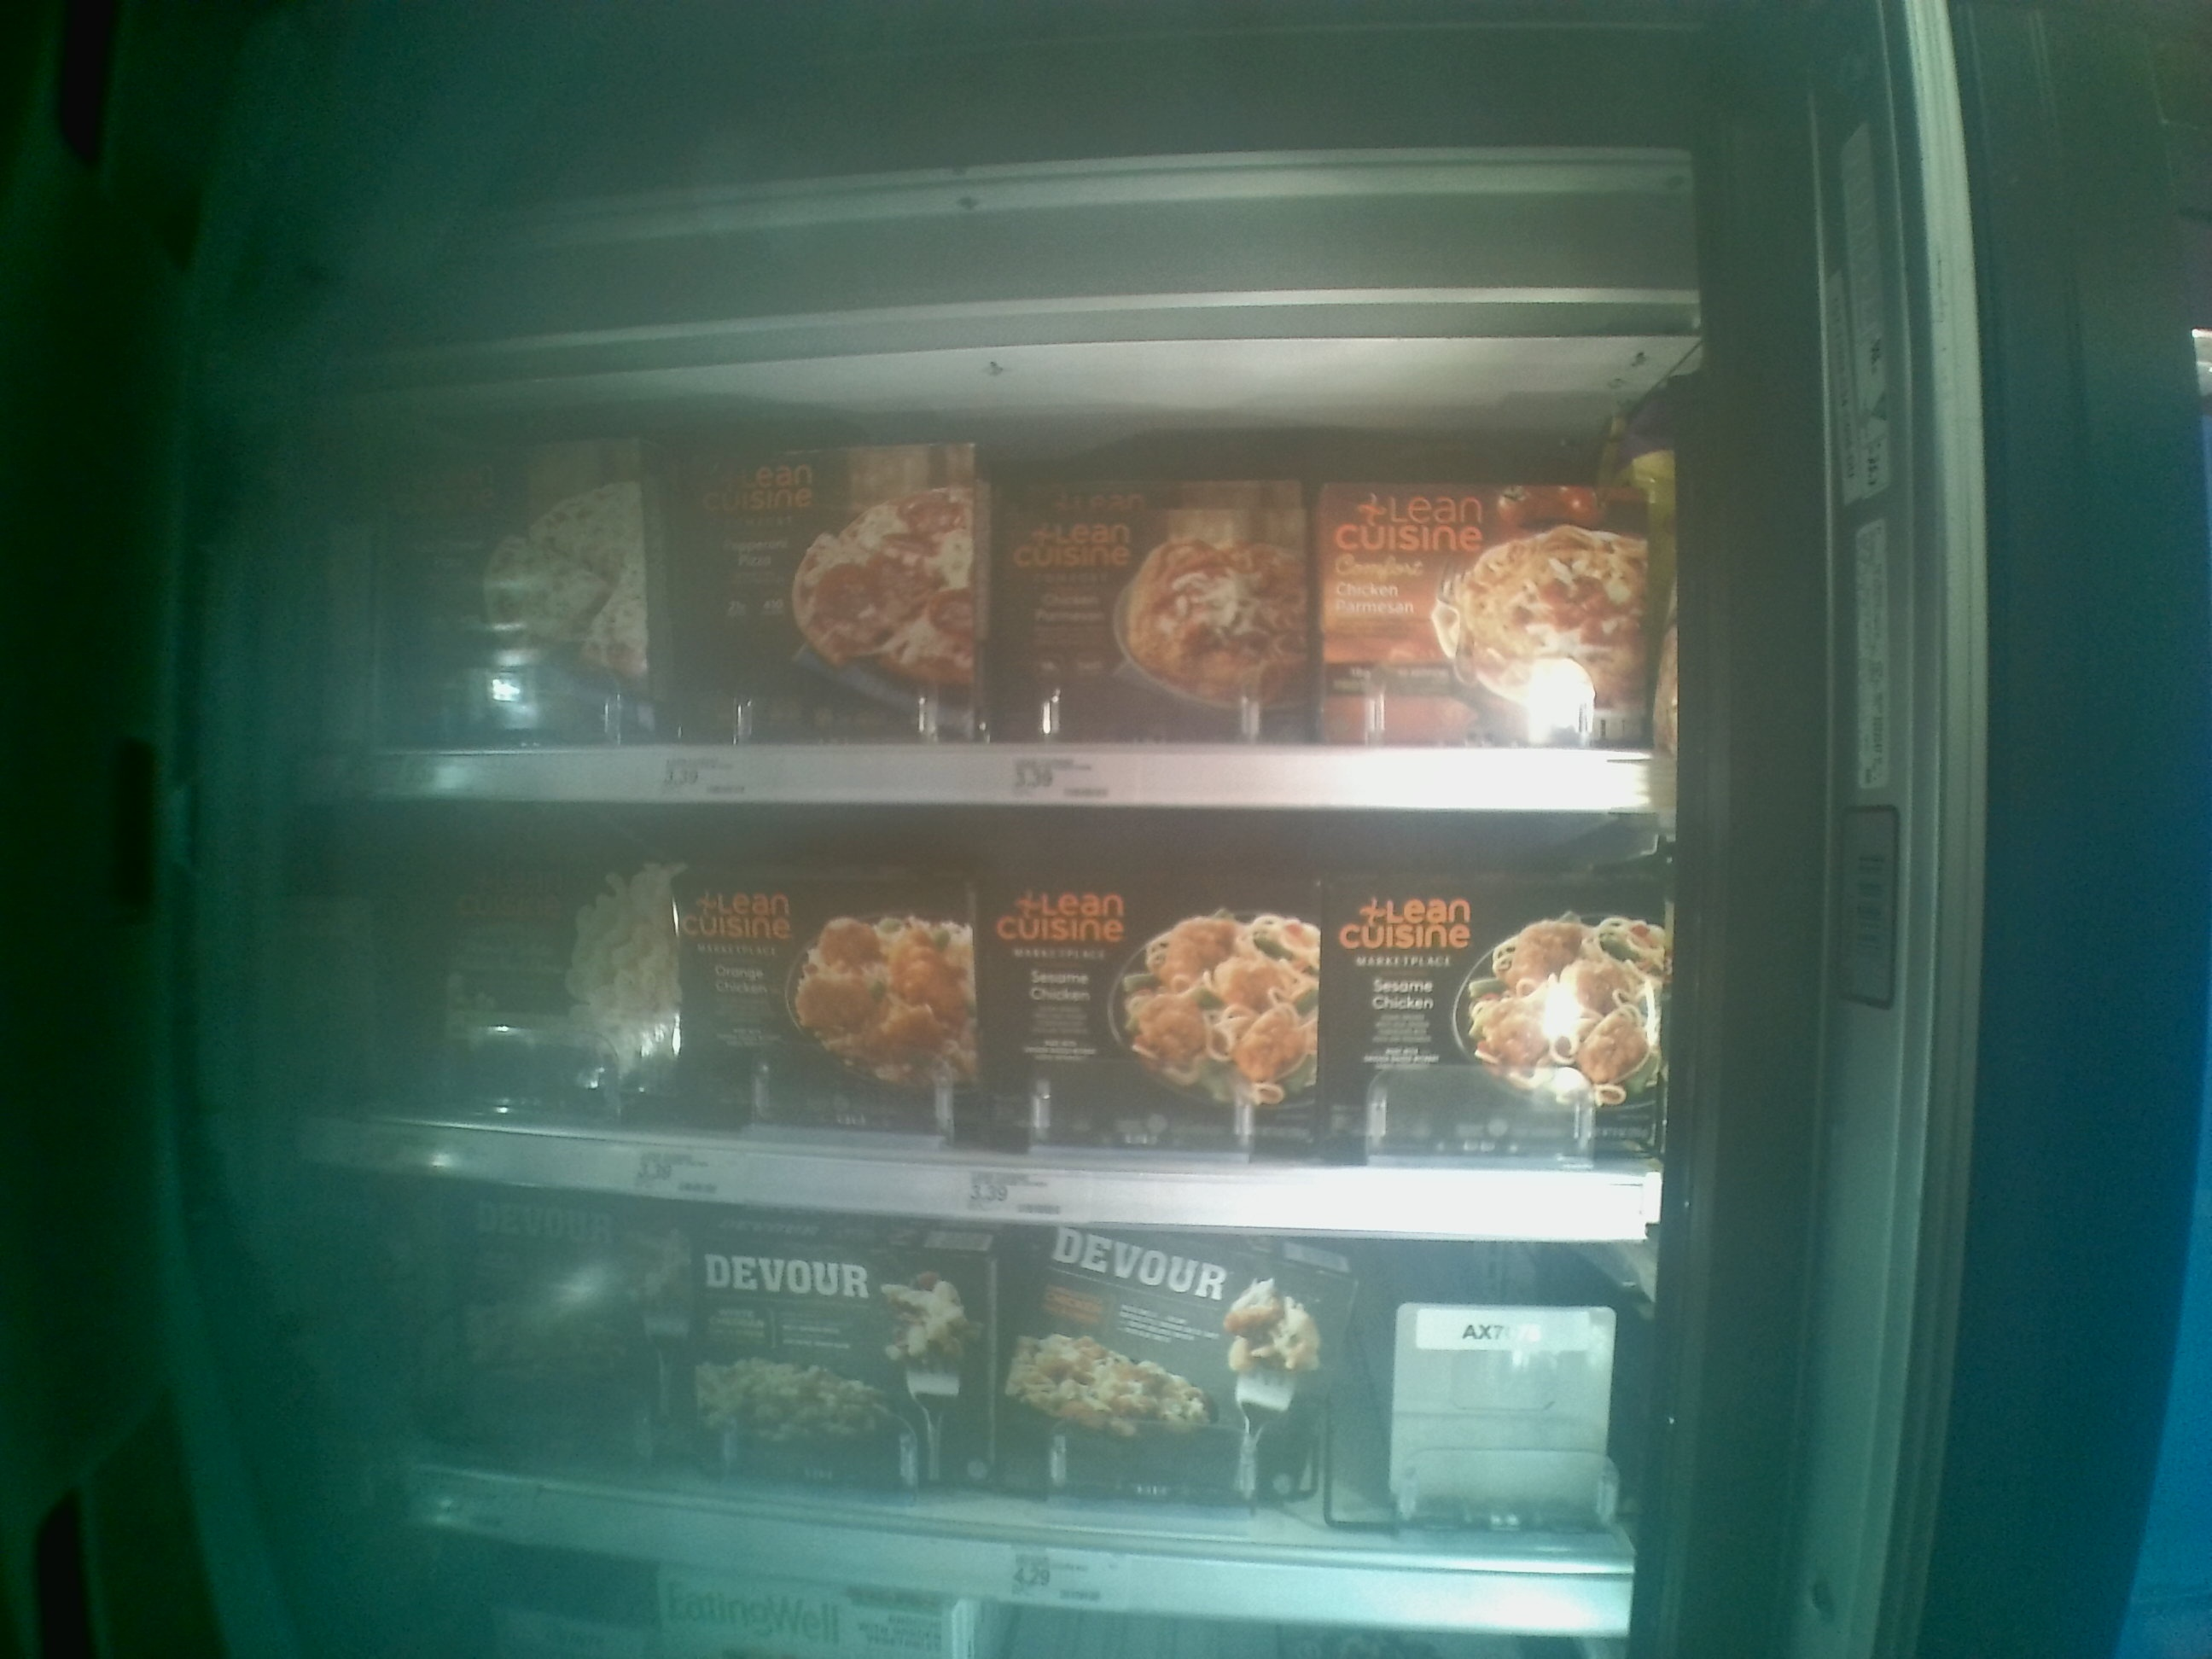shelf: (308, 368, 1667, 817), (301, 803, 1662, 1248), (307, 1183, 1641, 1633)
